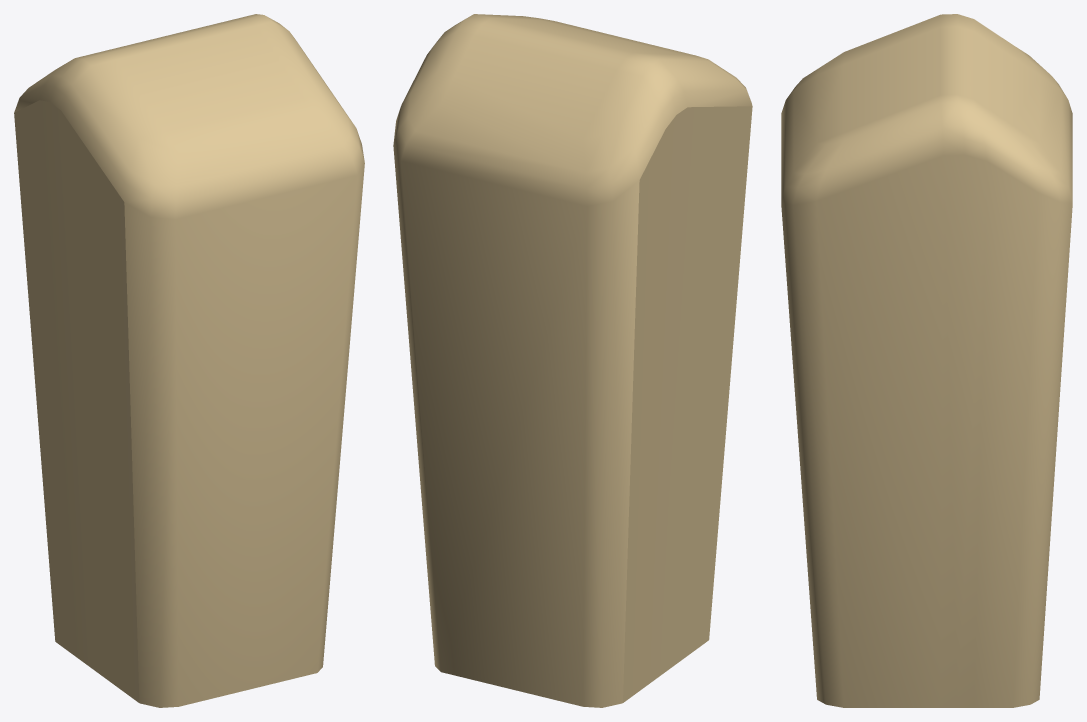
The model's file is Rock08_MESH.FBX.
The picture shows the model from 3 angles, left to right: view 1: azimuth 30°, elevation 25°; view 2: azimuth 150°, elevation 25°; view 3: azimuth 270°, elevation 25°; orthographic projection. The views are drawn at different scales.
Visible parts, largest first — view 1: Rock08_low; view 2: Rock08_low; view 3: Rock08_low.
Boxes of the visible parts, x1,y1,x2,y2 form: Rock08_low: [14, 14, 364, 707]; Rock08_low: [393, 14, 752, 707]; Rock08_low: [781, 14, 1072, 707].
Size of the model in its own units: 91.37 by 221 by 96.73.
